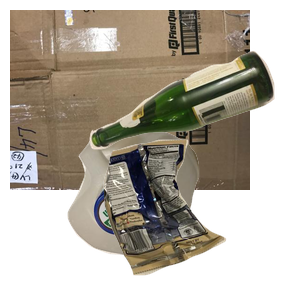cardboard: (10, 10, 250, 190)
glass: (87, 48, 300, 190)
plastic: (65, 123, 257, 300)
trash: (101, 137, 300, 300)
